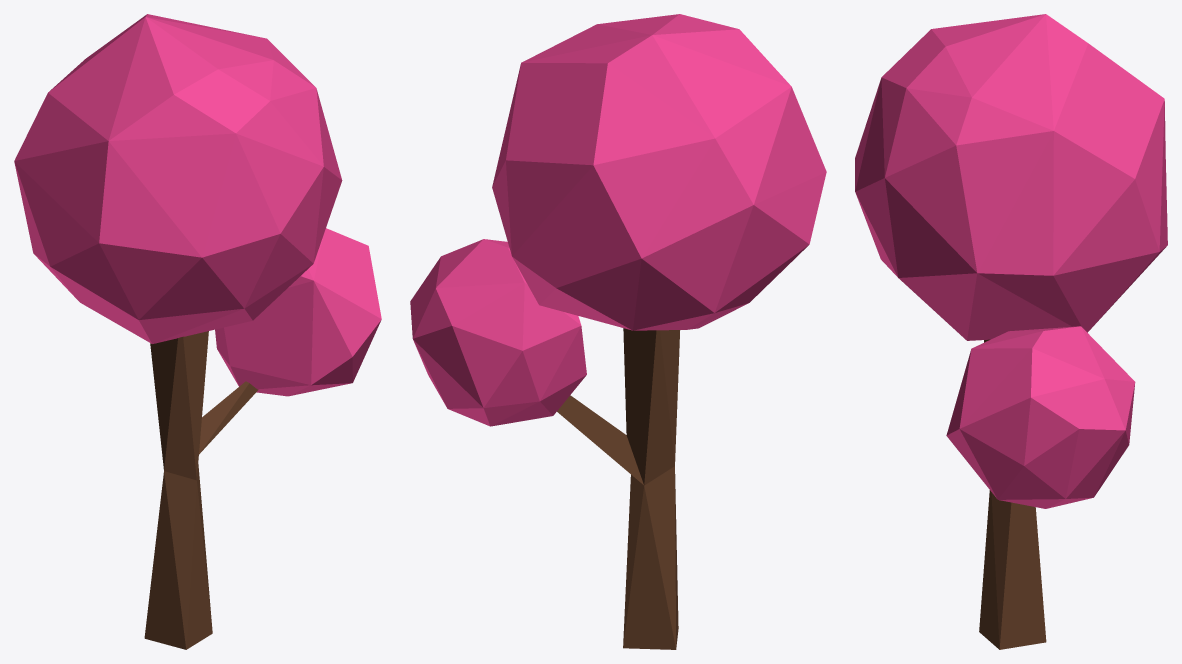
The model's file is Tree_54_Pink.fbx.
3 renders of one model, left to right at view 1: azimuth 30°, elevation 25°; view 2: azimuth 150°, elevation 25°; view 3: azimuth 270°, elevation 25°, orthographic.
Visible parts, largest first — view 1: Tree_54_Pink_Part_1, Tree_54_Pink_Part_2, Tree_54_Pink_Part_3; view 2: Tree_54_Pink_Part_1, Tree_54_Pink_Part_2, Tree_54_Pink_Part_3; view 3: Tree_54_Pink_Part_1, Tree_54_Pink_Part_2, Tree_54_Pink_Part_3.
Part boxes in pixels (x1,y1,x2,y2): Tree_54_Pink_Part_1: [14, 14, 342, 343]; Tree_54_Pink_Part_2: [199, 228, 381, 454]; Tree_54_Pink_Part_3: [144, 331, 212, 649]; Tree_54_Pink_Part_1: [492, 14, 826, 330]; Tree_54_Pink_Part_2: [410, 239, 643, 484]; Tree_54_Pink_Part_3: [623, 328, 680, 649]; Tree_54_Pink_Part_1: [855, 14, 1167, 340]; Tree_54_Pink_Part_2: [946, 326, 1135, 508]; Tree_54_Pink_Part_3: [979, 339, 1046, 649].
Bounding box in the file's own units: 358 × 602 × 278.
